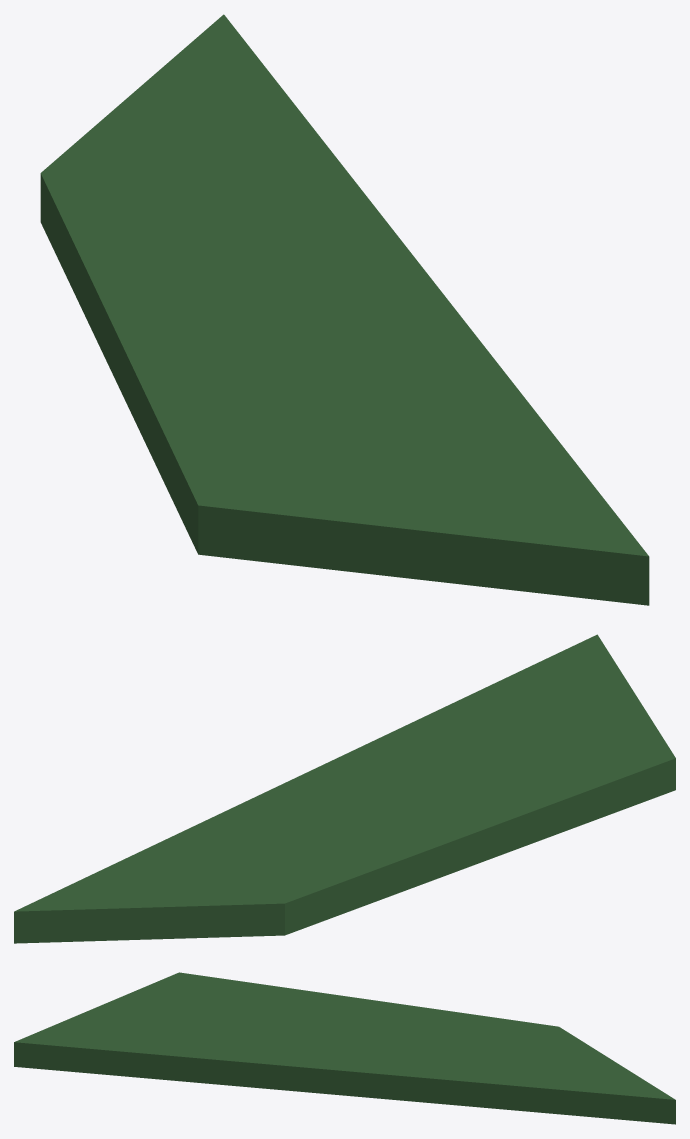
File: x_proval_00_48_1_rmstrd.fbx
3 renders of one model, top to bottom at view 1: azimuth 30°, elevation 25°; view 2: azimuth 150°, elevation 25°; view 3: azimuth 270°, elevation 25°, orthographic. The views are drawn at different scales.
Visible parts, largest first — view 1: x_proval_00_48_1_rmstrd1; view 2: x_proval_00_48_1_rmstrd1; view 3: x_proval_00_48_1_rmstrd1.
Part boxes in pixels (left/top/right/bottom): x_proval_00_48_1_rmstrd1: left=40, top=14, right=649, bottom=605; x_proval_00_48_1_rmstrd1: left=14, top=634, right=675, bottom=943; x_proval_00_48_1_rmstrd1: left=14, top=972, right=675, bottom=1124.
Bounding box in the file's own units: 2.22 × 0.2 × 4.87.
